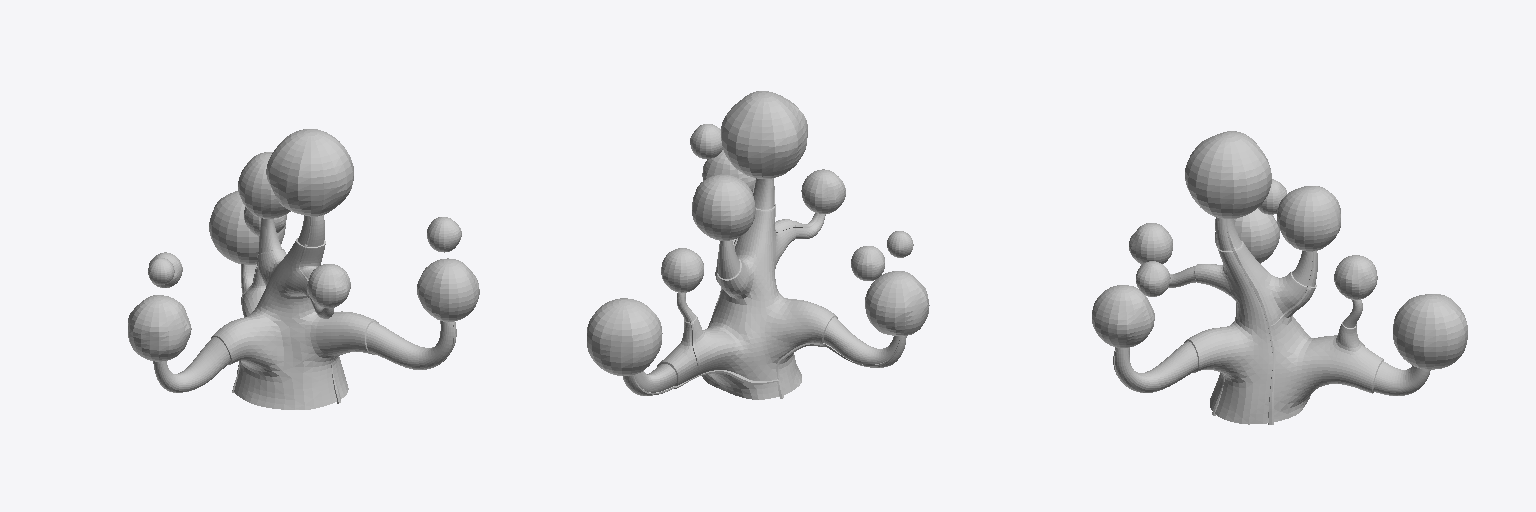
Rendered from tree-03-old.obj.
3 views of the same model, side by side, from view 1: azimuth 30°, elevation 25°; view 2: azimuth 150°, elevation 25°; view 3: azimuth 270°, elevation 25° (orthographic).
Parts seen in each view (by area): view 1: trunk tree_03 Trees, tree_03 Trees bubble_01, tree_03 Trees bubble_02, tree_03 Trees bubble_05, tree_03 Trees bubble_04, tree_03 Trees bubble_03, tree_03 Trees bubble_06, tree_03 Trees bubble_10, tree_03 Trees bubble_07; view 2: trunk tree_03 Trees, tree_03 Trees bubble_01, tree_03 Trees bubble_04, tree_03 Trees bubble_03, tree_03 Trees bubble_02, tree_03 Trees bubble_06, tree_03 Trees bubble_08, tree_03 Trees vines, tree_03 Trees bubble_09, tree_03 Trees bubble_10, tree_03 Trees bubble_05, tree_03 Trees bubble_07; view 3: trunk tree_03 Trees, tree_03 Trees bubble_01, tree_03 Trees bubble_04, tree_03 Trees bubble_03, tree_03 Trees bubble_05, tree_03 Trees bubble_02, tree_03 Trees bubble_08, tree_03 Trees bubble_06, tree_03 Trees vines, tree_03 Trees bubble_10, tree_03 Trees bubble_09.
Part boxes in pixels (left/top/right/bottom): trunk tree_03 Trees: left=154, top=215, right=456, bottom=409; tree_03 Trees bubble_01: left=266, top=129, right=353, bottom=216; tree_03 Trees bubble_02: left=128, top=295, right=191, bottom=361; tree_03 Trees bubble_05: left=417, top=258, right=479, bottom=321; tree_03 Trees bubble_04: left=209, top=191, right=285, bottom=264; tree_03 Trees bubble_03: left=238, top=152, right=290, bottom=218; tree_03 Trees bubble_06: left=307, top=264, right=350, bottom=307; tree_03 Trees bubble_10: left=427, top=217, right=461, bottom=252; tree_03 Trees bubble_07: left=148, top=258, right=174, bottom=284; trunk tree_03 Trees: left=623, top=178, right=906, bottom=399; tree_03 Trees bubble_01: left=721, top=91, right=807, bottom=178; tree_03 Trees bubble_04: left=587, top=298, right=662, bottom=375; tree_03 Trees bubble_03: left=692, top=174, right=755, bottom=240; tree_03 Trees bubble_02: left=865, top=271, right=929, bottom=335; tree_03 Trees bubble_06: left=801, top=169, right=845, bottom=213; tree_03 Trees bubble_08: left=661, top=248, right=703, bottom=292; tree_03 Trees vines: left=632, top=180, right=902, bottom=398; tree_03 Trees bubble_09: left=851, top=246, right=884, bottom=280; tree_03 Trees bubble_10: left=690, top=124, right=722, bottom=158; tree_03 Trees bubble_05: left=702, top=150, right=755, bottom=190; tree_03 Trees bubble_07: left=887, top=231, right=913, bottom=257; trunk tree_03 Trees: left=1115, top=217, right=1430, bottom=424; tree_03 Trees bubble_01: left=1185, top=131, right=1271, bottom=218; tree_03 Trees bubble_04: left=1393, top=294, right=1467, bottom=369; tree_03 Trees bubble_03: left=1277, top=186, right=1340, bottom=251; tree_03 Trees bubble_05: left=1092, top=285, right=1154, bottom=347; tree_03 Trees bubble_02: left=1215, top=208, right=1279, bottom=263; tree_03 Trees bubble_08: left=1334, top=255, right=1377, bottom=299; tree_03 Trees bubble_06: left=1129, top=223, right=1172, bottom=264; tree_03 Trees vines: left=1113, top=219, right=1364, bottom=424; tree_03 Trees bubble_10: left=1136, top=261, right=1170, bottom=296; tree_03 Trees bubble_09: left=1258, top=179, right=1286, bottom=214.
Bounding box in the file's own units: 2.66 × 2.44 × 3.07.